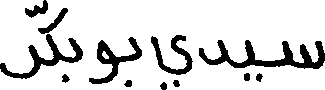ب: (122, 34, 141, 88), (61, 36, 82, 83)
د: (198, 38, 227, 65)
ر: (0, 39, 41, 79)
س: (282, 39, 324, 69)
ك: (40, 7, 68, 70)
و: (89, 37, 118, 83)
ي: (148, 33, 191, 88), (242, 38, 264, 82)
